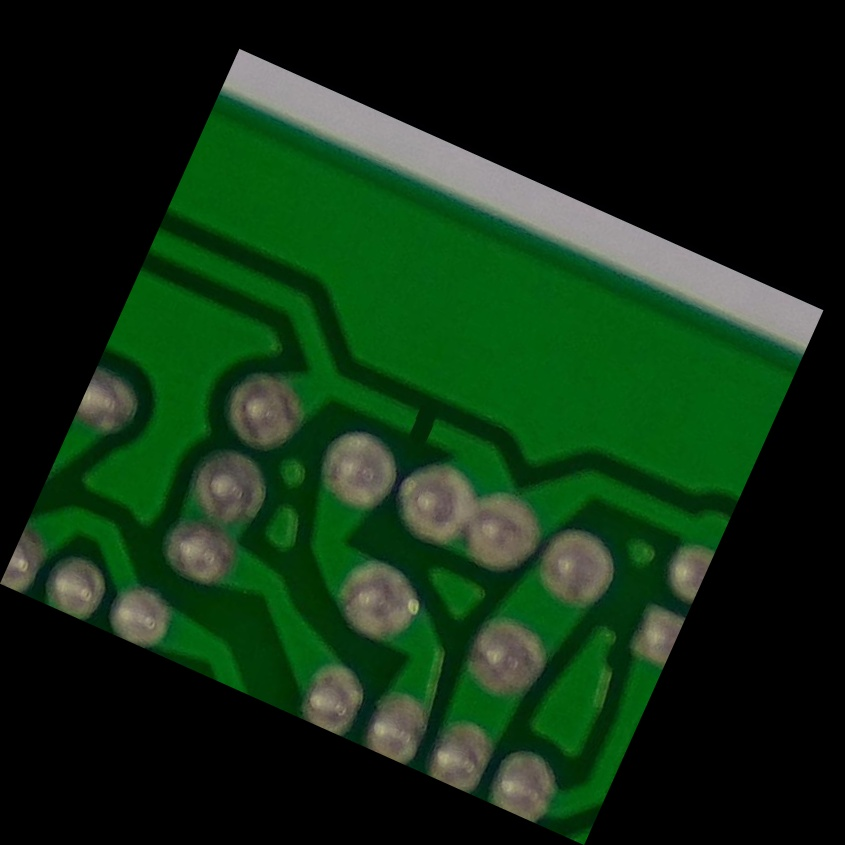open_circuit: (393, 393, 452, 452)
